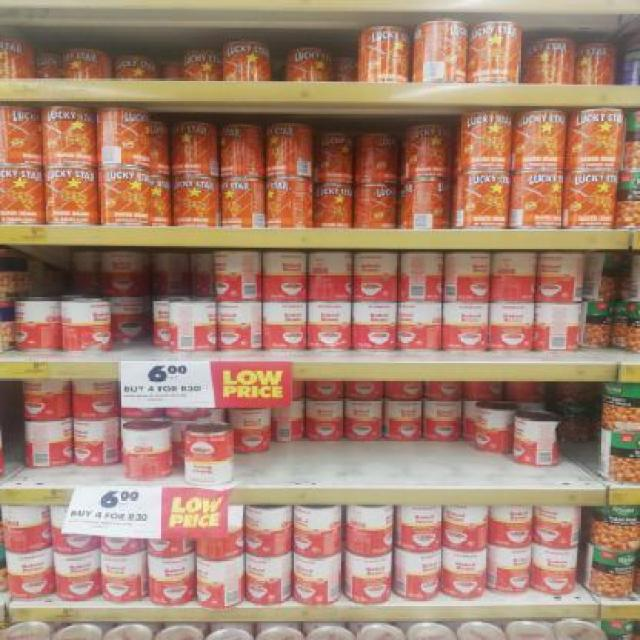Beans: (99, 104, 158, 144), (40, 165, 103, 201), (573, 110, 632, 148), (514, 109, 574, 145), (460, 109, 518, 146), (102, 167, 158, 201), (360, 22, 412, 58), (41, 107, 96, 141), (475, 22, 523, 59), (574, 167, 621, 204), (462, 174, 513, 208), (264, 252, 314, 286), (519, 169, 566, 203), (528, 40, 578, 71), (448, 253, 498, 284), (318, 128, 358, 166), (214, 299, 263, 330), (444, 300, 490, 332), (171, 120, 218, 151), (171, 178, 227, 204), (537, 251, 581, 284), (352, 300, 398, 331), (267, 124, 311, 156), (233, 406, 278, 437), (266, 301, 308, 334), (404, 548, 445, 581), (51, 552, 103, 578), (147, 556, 199, 582), (355, 252, 400, 282), (116, 50, 162, 79), (476, 404, 515, 438), (414, 124, 457, 154), (536, 549, 586, 574), (494, 302, 534, 333), (2, 166, 41, 197), (400, 506, 443, 534), (182, 458, 228, 484), (305, 399, 349, 426), (102, 253, 147, 279), (311, 301, 354, 328), (179, 52, 223, 78), (292, 48, 337, 72), (426, 395, 468, 420), (228, 44, 268, 70), (66, 49, 102, 77), (318, 183, 356, 209), (267, 179, 302, 207), (8, 555, 48, 579), (348, 399, 386, 424), (492, 503, 533, 526), (76, 302, 115, 326), (391, 396, 423, 424), (6, 108, 40, 134), (71, 420, 106, 445), (22, 382, 67, 401), (363, 185, 397, 204)
